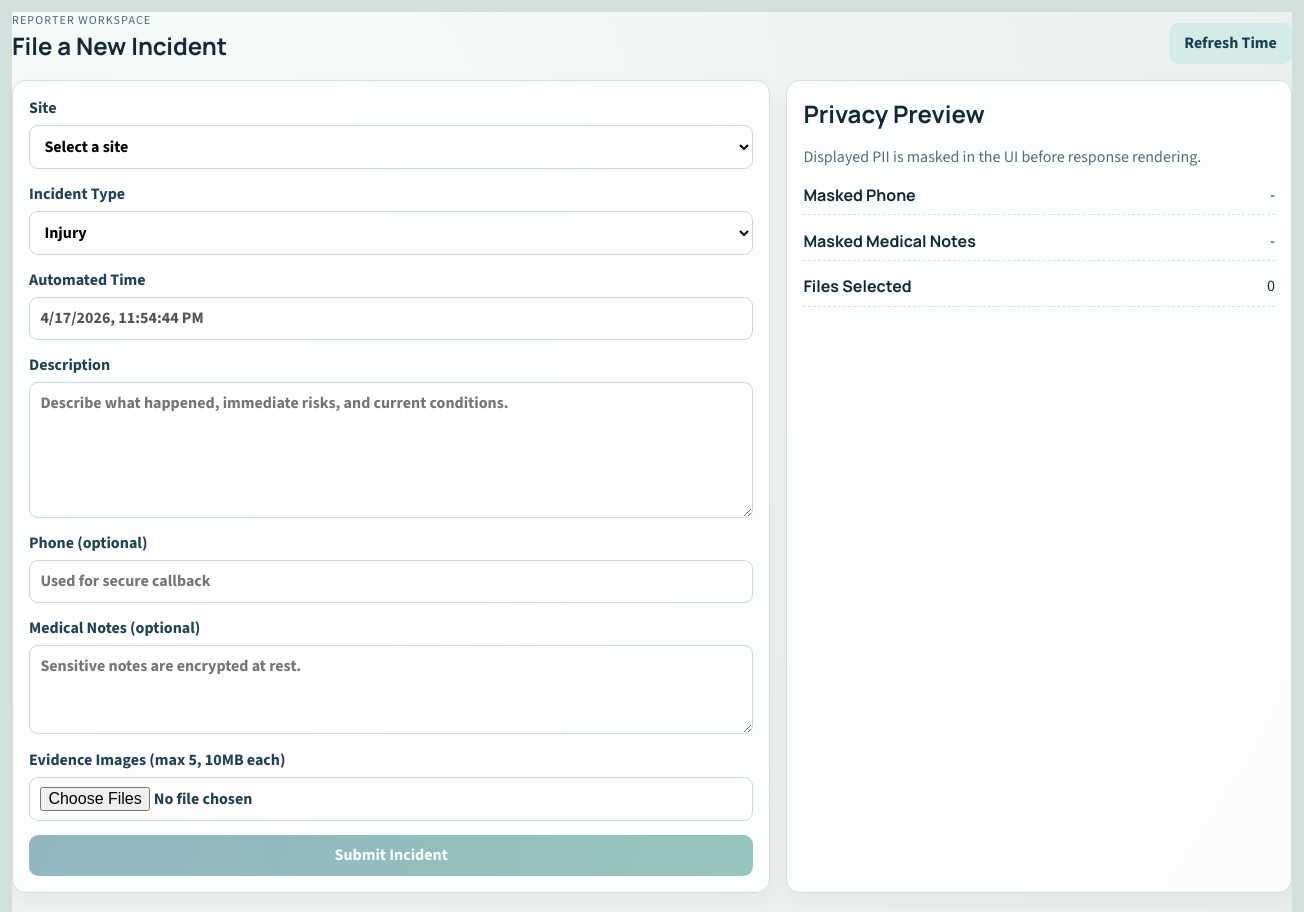
Test: ReportIncident.vue › masks phone number in preview
Type "5551234567" into the field labelled "Phone (optional)" at (391,582), box x1=29 y1=560 x2=753 y2=603
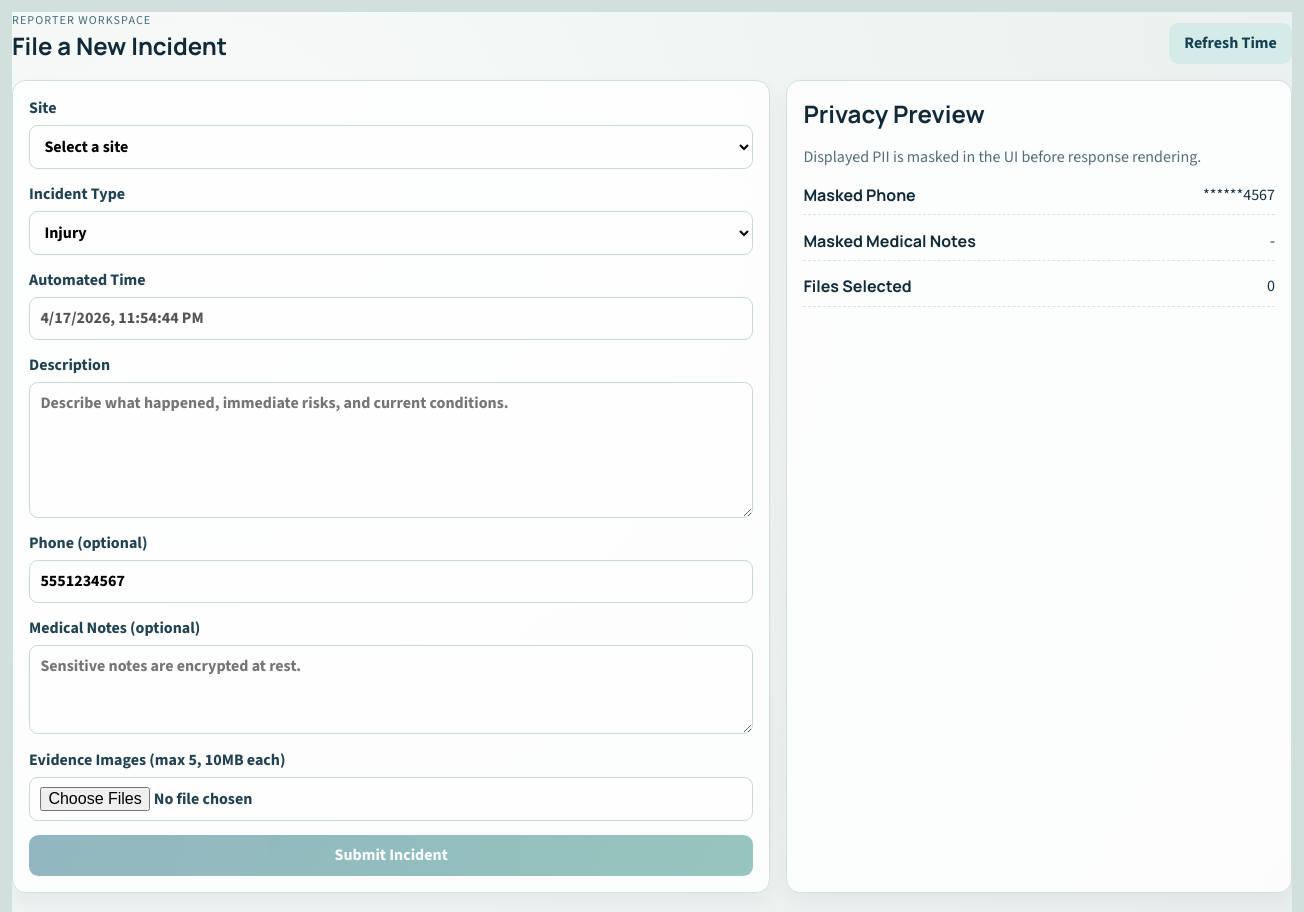
Expected: the text "******4567" is shown, x1=1203 y1=184 x2=1275 y2=207
